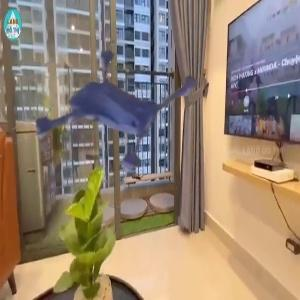drone: (4, 32, 190, 218)
